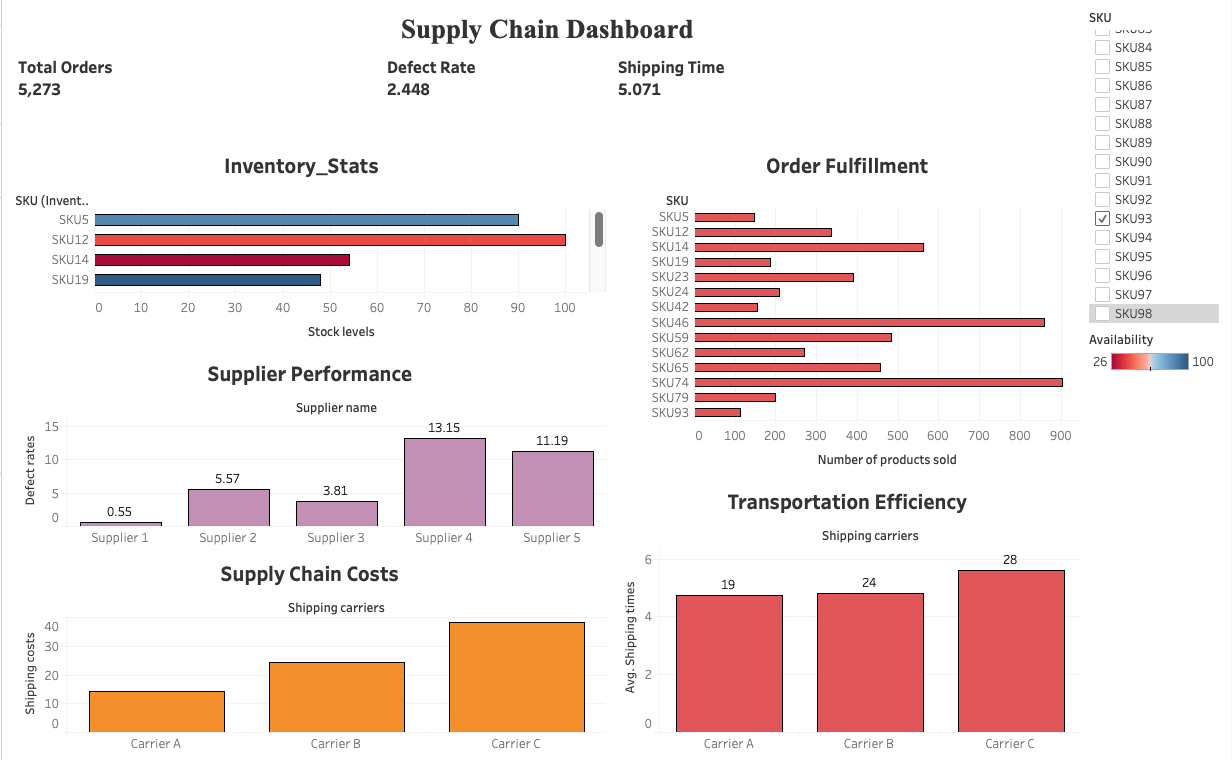

Layout of this report page (visuals, bound fields, positions):
{"tool":"tableau","page":{"name":"Supply Chain Dashboard","canvas":[1000,1000],"units":"permille","ordinal":0},"visuals":[{"type":"title","box":[6.5,10.4,857.6,61.2]},{"type":"filter","title":"Inventory_Stats","param":"[federated.0jfffgf1ewv1y31aihkk31yhn328].[none:SKU (Inventory_Stats.csv):nk]","box":[864.1,10.4,129.4,419.3]},{"type":"worksheet","title":"KPI_Total Orders","mark":"Text","box":[6.5,71.6,294.5,67.7]},{"type":"worksheet","title":"KPI_Defect Rate","mark":"Text","box":[301,71.6,184.5,67.7]},{"type":"worksheet","title":"KPI_Shipping Time","mark":"Text","box":[485.4,71.6,378.6,67.7]},{"type":"worksheet","title":"Inventory_Stats","mark":"Bar","rows":["SKU (Inventory_Stats.csv)"],"cols":["Stock levels"],"box":[6.5,190.4,479,271.1]},{"type":"worksheet","title":"Order Fulfillment","mark":"Bar","rows":["SKU"],"cols":["Number of products sold"],"box":[485.4,190.4,378.6,437.7]},{"type":"legend","title":"Inventory_Stats","param":"[federated.0jfffgf1ewv1y31aihkk31yhn328].[sum:Availability:qk]","box":[864.1,429.7,129.4,84.6]},{"type":"worksheet","title":"Supplier Performance","mark":"Bar","rows":["Defect rates"],"cols":["Supplier name"],"box":[6.5,461.5,479,259.9]},{"type":"worksheet","title":"Transportation Efficiency","mark":"Bar","rows":["Shipping times"],"cols":["Shipping carriers"],"box":[485.4,628.1,378.6,361.5]},{"type":"worksheet","title":"Supply Chain Costs","mark":"Automatic","rows":["Shipping costs"],"cols":["Shipping carriers"],"box":[6.5,721.4,479,268.2]}]}

Visuals, with their boxes on the dashboard's canvas, which has no fixed pixel size, in thousandths of its width and height (x1, y1, x2, y2). These are canvas units, not pixel positions in the 1232x760 screenshot, which may show the page scaled, cropped or inside an application window:
title: <box>6,10,864,72</box>
"Inventory_Stats" filter: <box>864,10,994,430</box>
"KPI_Total Orders" worksheet (Text marks): <box>6,72,301,139</box>
"KPI_Defect Rate" worksheet (Text marks): <box>301,72,486,139</box>
"KPI_Shipping Time" worksheet (Text marks): <box>485,72,864,139</box>
"Inventory_Stats" worksheet (Bar marks): <box>6,190,486,462</box>
"Order Fulfillment" worksheet (Bar marks): <box>485,190,864,628</box>
"Inventory_Stats" legend: <box>864,430,994,514</box>
"Supplier Performance" worksheet (Bar marks): <box>6,462,486,721</box>
"Transportation Efficiency" worksheet (Bar marks): <box>485,628,864,990</box>
"Supply Chain Costs" worksheet: <box>6,721,486,990</box>
